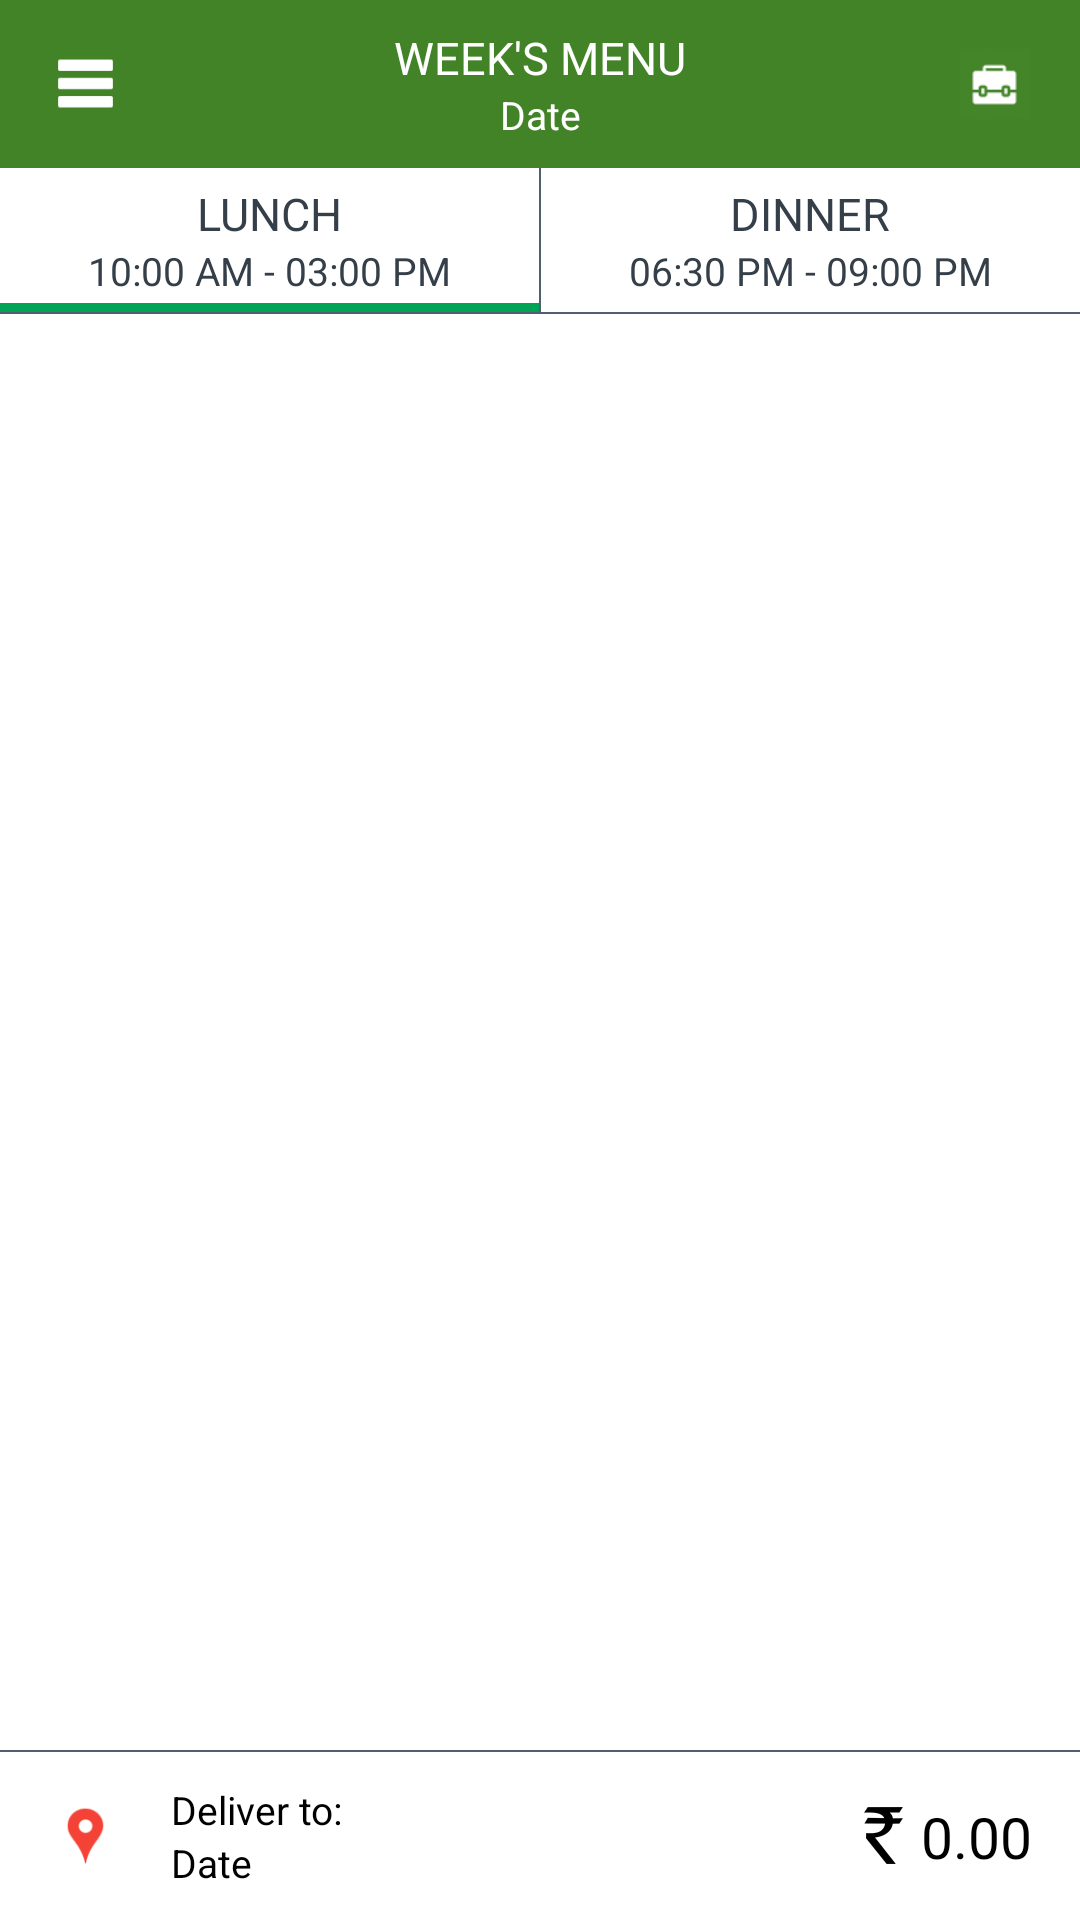

Point at icon controls on the screen. Image size 1080x1920, points as (x=x, y=y).
bag: (x=994, y=84)
indian rupee symbol: (x=883, y=1835)
location: (x=85, y=1836)
menu: (x=85, y=83)
